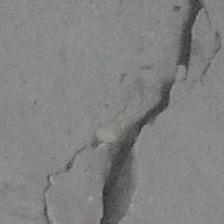Crack: (71, 2, 224, 224)
